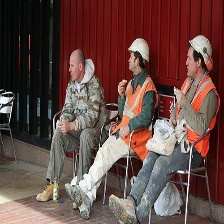helmet: (187, 35, 213, 68), (127, 41, 154, 64)
no-helmet: (65, 47, 89, 73)
no-vest: (65, 75, 103, 147)
person: (158, 37, 222, 188), (51, 46, 104, 218), (103, 40, 158, 162)
vest: (177, 76, 220, 156), (120, 76, 160, 160)
